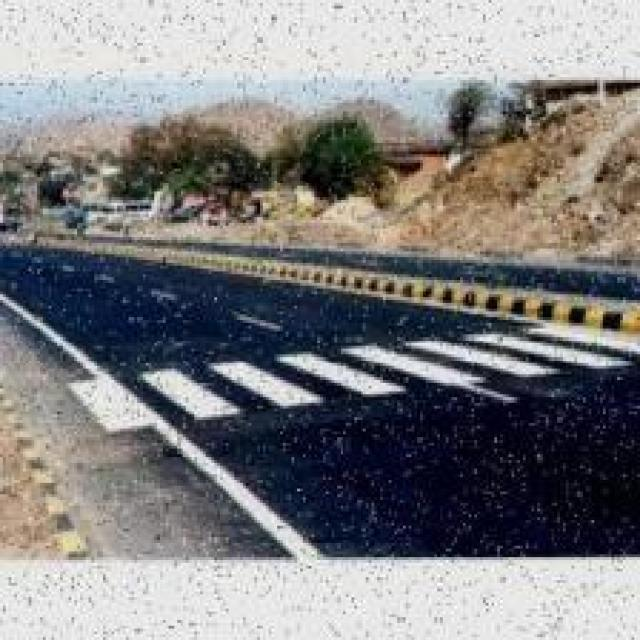crosswalk: (68, 313, 640, 456)
